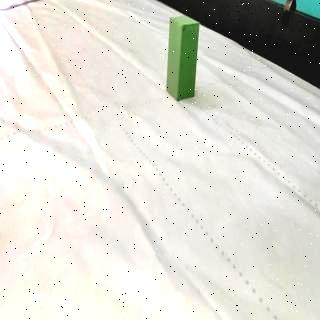greenbox: (167, 15, 201, 101)
